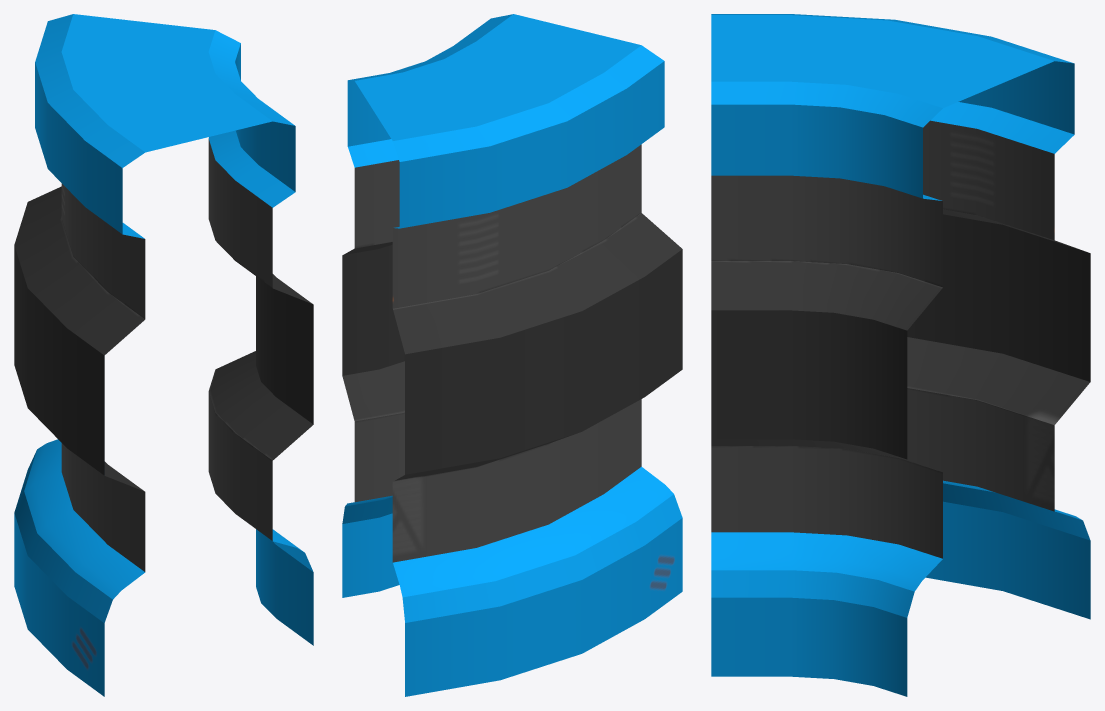
The model's file is Wall_4_A_mod.fbx.
3 renders of one model, left to right at view 1: azimuth 30°, elevation 25°; view 2: azimuth 150°, elevation 25°; view 3: azimuth 270°, elevation 25°, orthographic. The views are drawn at different scales.
Visible parts, largest first — view 1: Wall_4_A; view 2: Wall_4_A; view 3: Wall_4_A.
Boxes of the visible parts, x1,y1,x2,y2 form: Wall_4_A: [14, 14, 313, 696]; Wall_4_A: [342, 14, 682, 696]; Wall_4_A: [711, 14, 1090, 696].
Size of the model in its own units: 0.9703 by 2 by 1.2.
